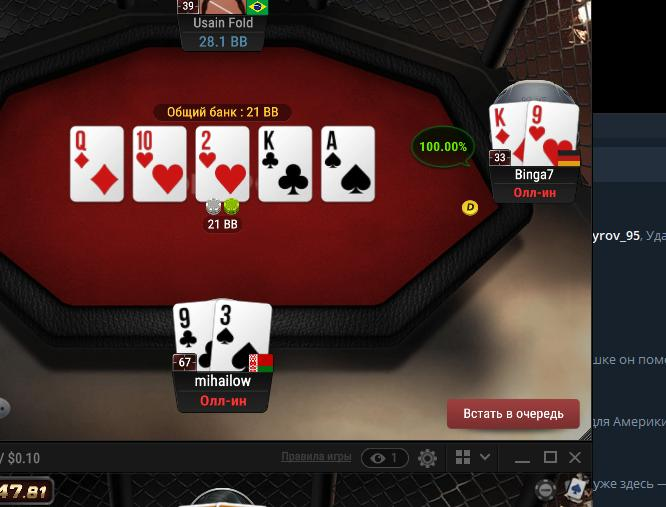10h: (134, 126, 186, 201)
2h: (196, 126, 248, 202)
3s: (215, 299, 270, 372)
9c: (171, 303, 213, 371)
9h: (526, 101, 578, 164)
As: (322, 126, 374, 203)
Kc: (259, 126, 312, 200)
Kd: (489, 104, 526, 163)
Qd: (71, 126, 123, 202)
